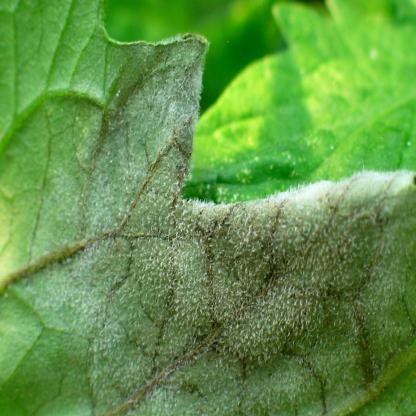Tomato leaf mosaic virus: (5, 4, 416, 416)
